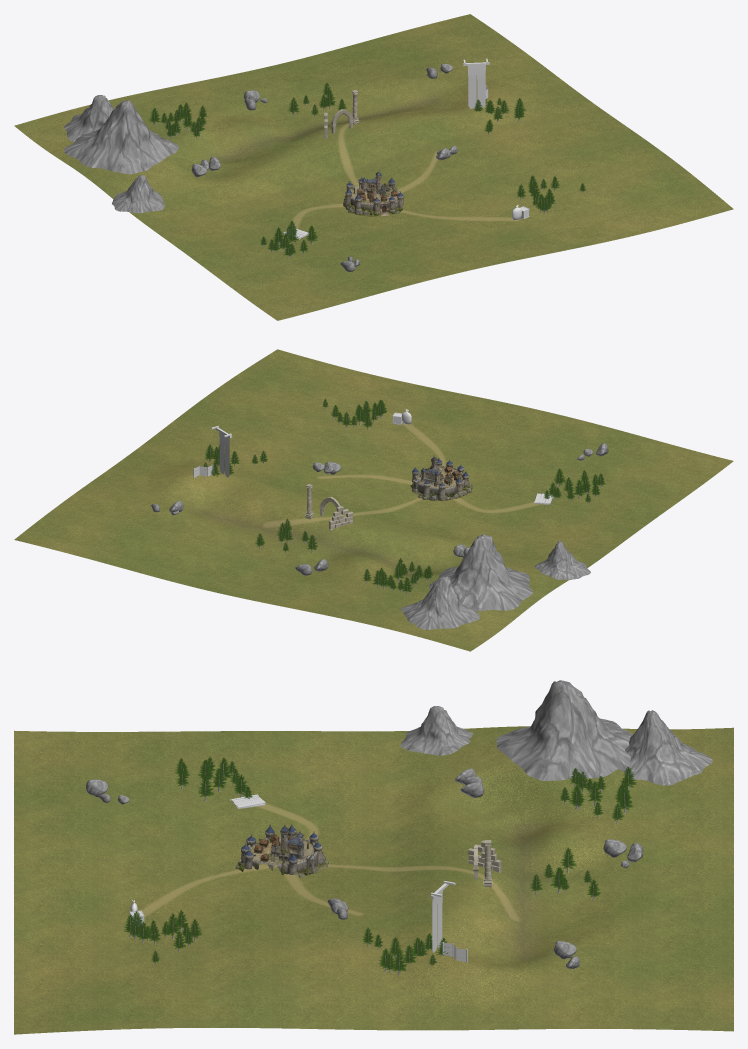
Rendered from artist-output.glb.
3 renders of one model, top to bottom at view 1: azimuth 30°, elevation 25°; view 2: azimuth 150°, elevation 25°; view 3: azimuth 270°, elevation 25°, orthographic. The views are drawn at different scales.
Parts seen in each view (by area): view 1: ZoneOne continuous prairie source, Mountain01_LOD0.001, Eldoria_MultiPiece_Group_05, Mountain01_LOD0.003, Mountain01_LOD0.002, canvas_on_wall; view 2: ZoneOne continuous prairie source, Mountain01_LOD0.001, Mountain01_LOD0.002, Eldoria_MultiPiece_Group_05, Mountain01_LOD0.003, canvas_on_wall; view 3: ZoneOne continuous prairie source, Mountain01_LOD0.001, Mountain01_LOD0.002, Eldoria_MultiPiece_Group_05, Mountain01_LOD0.003, canvas_on_wall.
Part boxes in pixels (left/top/right/bottom): ZoneOne continuous prairie source: left=14, top=14, right=733, bottom=320; Mountain01_LOD0.001: left=64, top=100, right=178, bottom=174; Eldoria_MultiPiece_Group_05: left=343, top=170, right=404, bottom=216; Mountain01_LOD0.003: left=112, top=175, right=165, bottom=213; Mountain01_LOD0.002: left=63, top=95, right=114, bottom=141; canvas_on_wall: left=463, top=58, right=489, bottom=108; ZoneOne continuous prairie source: left=14, top=349, right=733, bottom=651; Mountain01_LOD0.001: left=429, top=534, right=533, bottom=610; Mountain01_LOD0.002: left=401, top=576, right=479, bottom=629; Eldoria_MultiPiece_Group_05: left=410, top=455, right=472, bottom=500; Mountain01_LOD0.003: left=534, top=541, right=590, bottom=580; canvas_on_wall: left=211, top=426, right=231, bottom=477; ZoneOne continuous prairie source: left=14, top=726, right=733, bottom=1034; Mountain01_LOD0.001: left=496, top=680, right=633, bottom=780; Mountain01_LOD0.002: left=619, top=710, right=712, bottom=785; Eldoria_MultiPiece_Group_05: left=235, top=824, right=328, bottom=877; Mountain01_LOD0.003: left=400, top=706, right=473, bottom=755; canvas_on_wall: left=430, top=881, right=455, bottom=952.
Size of the model in its own units: 245 by 34.3 by 240.
Materials: 17 (6 with a texture image).
